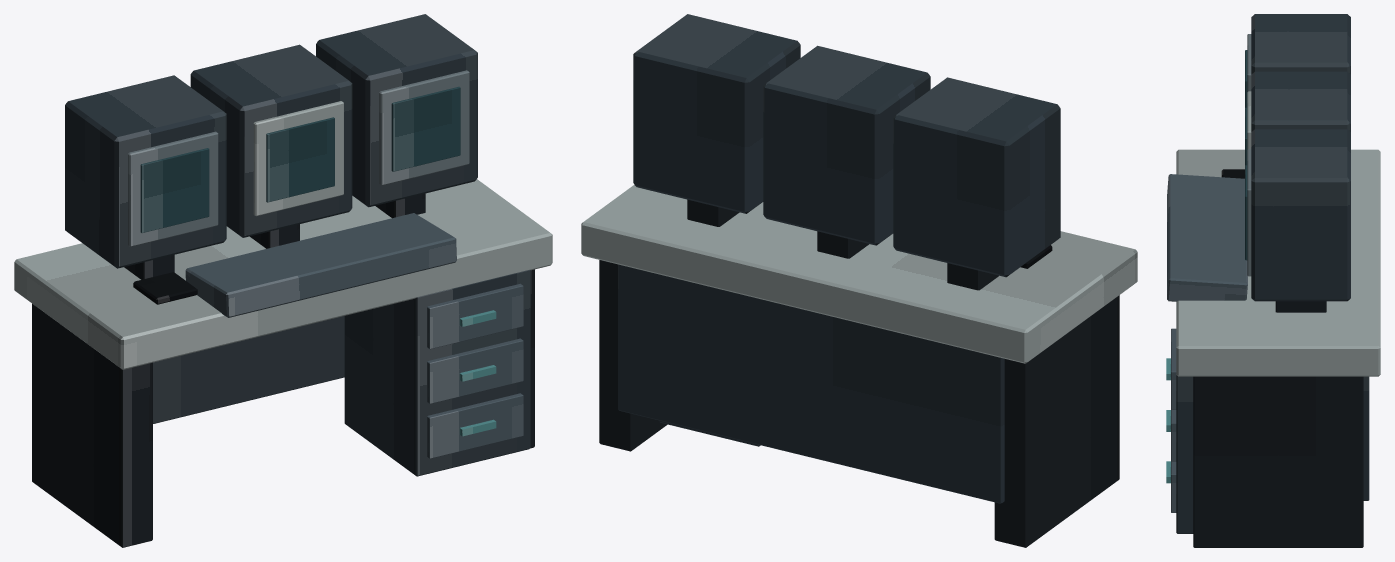
Rendered from office_crt_security_console_charcoal.glb.
3 views of the same model, side by side, from view 1: azimuth 30°, elevation 25°; view 2: azimuth 150°, elevation 25°; view 3: azimuth 270°, elevation 25° (orthographic). The views are drawn at different scales.
Visible parts, largest first — view 1: DeskTop, DeskLeg, DrawerPedestal, MonitorShell_0, ConsoleKeyboard, MonitorShell_1, MonitorShell_2, ModestyPanel, MonitorGlow_2, MonitorGlow_0, MonitorGlow_1, MonitorScreen_1 (+10 smaller); view 2: ModestyPanel, DeskTop, MonitorShell_0, MonitorShell_1, MonitorShell_2, DeskLeg, DeskLeg.001, MonitorStand_1, MonitorStand_2, MonitorStand_0; view 3: DeskLeg.001, DeskTop, MonitorShell_2, ConsoleKeyboard, MonitorShell_1, MonitorShell_0, DrawerPedestal, ModestyPanel, MonitorScreen_2, MonitorStand_2, Drawer_2, Drawer_1 (+4 smaller).
Part boxes in pixels (x1,y1,x2,y2): DeskTop: (14, 179, 552, 369); DeskLeg: (32, 303, 152, 547); DrawerPedestal: (344, 270, 530, 476); MonitorShell_0: (65, 75, 226, 268); ConsoleKeyboard: (185, 213, 456, 317); MonitorShell_1: (190, 44, 352, 237); MonitorShell_2: (316, 14, 477, 207); ModestyPanel: (153, 316, 344, 423); MonitorGlow_2: (391, 86, 460, 171); MonitorGlow_0: (140, 148, 209, 232); MonitorGlow_1: (266, 117, 334, 202); MonitorScreen_1: (253, 101, 343, 216); ModestyPanel: (618, 264, 1004, 503); DeskTop: (581, 185, 1137, 363); MonitorShell_0: (893, 77, 1060, 277); MonitorShell_1: (763, 45, 930, 245); MonitorShell_2: (633, 14, 800, 213); DeskLeg: (994, 295, 1119, 547); DeskLeg.001: (599, 260, 667, 451); MonitorStand_1: (817, 231, 869, 258); MonitorStand_2: (687, 199, 739, 226); MonitorStand_0: (947, 263, 998, 290); DeskLeg.001: (1193, 376, 1363, 547); DeskTop: (1176, 149, 1380, 376); MonitorShell_2: (1251, 129, 1350, 301); ConsoleKeyboard: (1167, 174, 1247, 301); MonitorShell_1: (1251, 71, 1350, 131); MonitorShell_0: (1251, 14, 1350, 74); DrawerPedestal: (1176, 375, 1193, 533); ModestyPanel: (1363, 376, 1369, 500); MonitorScreen_2: (1247, 149, 1251, 276); MonitorStand_2: (1275, 301, 1326, 312); Drawer_2: (1171, 328, 1176, 409); Drawer_1: (1171, 410, 1176, 461).
Bounding box in the file's own units: 1.65 × 1.39 × 0.755.
2 materials, 2 textured.
